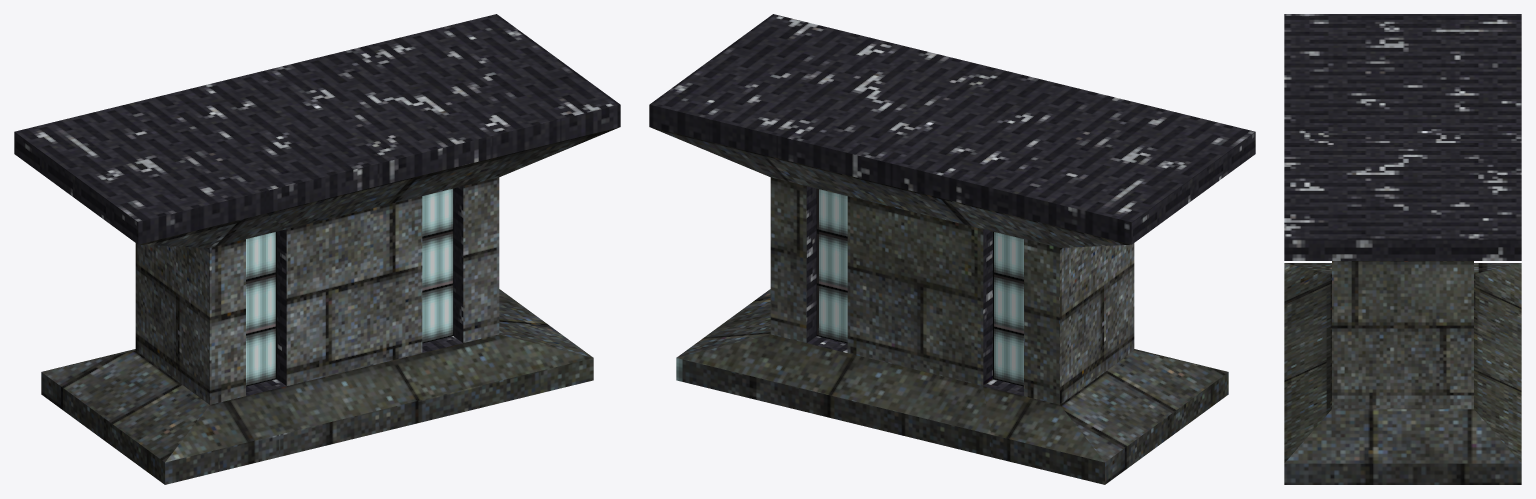
The model's file is altar.fbx.
3 renders of one model, left to right at view 1: azimuth 30°, elevation 25°; view 2: azimuth 150°, elevation 25°; view 3: azimuth 270°, elevation 25°, orthographic. The views are drawn at different scales.
Visible parts, largest first — view 1: Altar; view 2: Altar; view 3: Altar.
Part boxes in pixels (x1,y1,x2,y2): Altar: (14, 14, 620, 484); Altar: (649, 14, 1255, 484); Altar: (1284, 14, 1521, 484).
Size of the model in its own units: 185 by 98.88 by 82.4.
